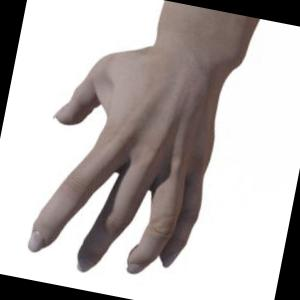paper: (28, 17, 251, 273)
